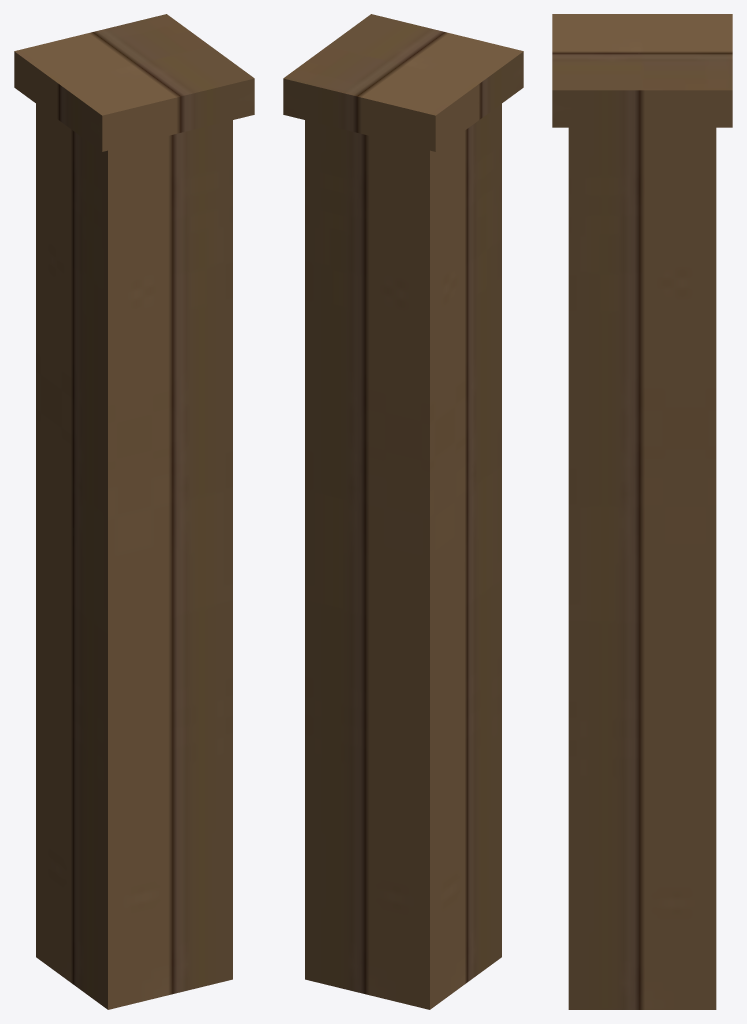
Rendered from prp_fence_corner_a_LOD2.glb.
The picture shows the model from 3 angles, left to right: view 1: azimuth 30°, elevation 25°; view 2: azimuth 150°, elevation 25°; view 3: azimuth 270°, elevation 25°; orthographic projection. The views are drawn at different scales.
Parts seen in each view (by area): view 1: prp_fence_corner_a_wood; view 2: prp_fence_corner_a_wood; view 3: prp_fence_corner_a_wood.
Boxes of the visible parts, box(x1,y1,x2,y2) form: prp_fence_corner_a_wood: box(14, 14, 254, 1009); prp_fence_corner_a_wood: box(283, 14, 523, 1009); prp_fence_corner_a_wood: box(552, 14, 732, 1009).
Size of the model in its own units: 0.22 by 1.25 by 0.22.
Materials: 1 (1 with a texture image).
